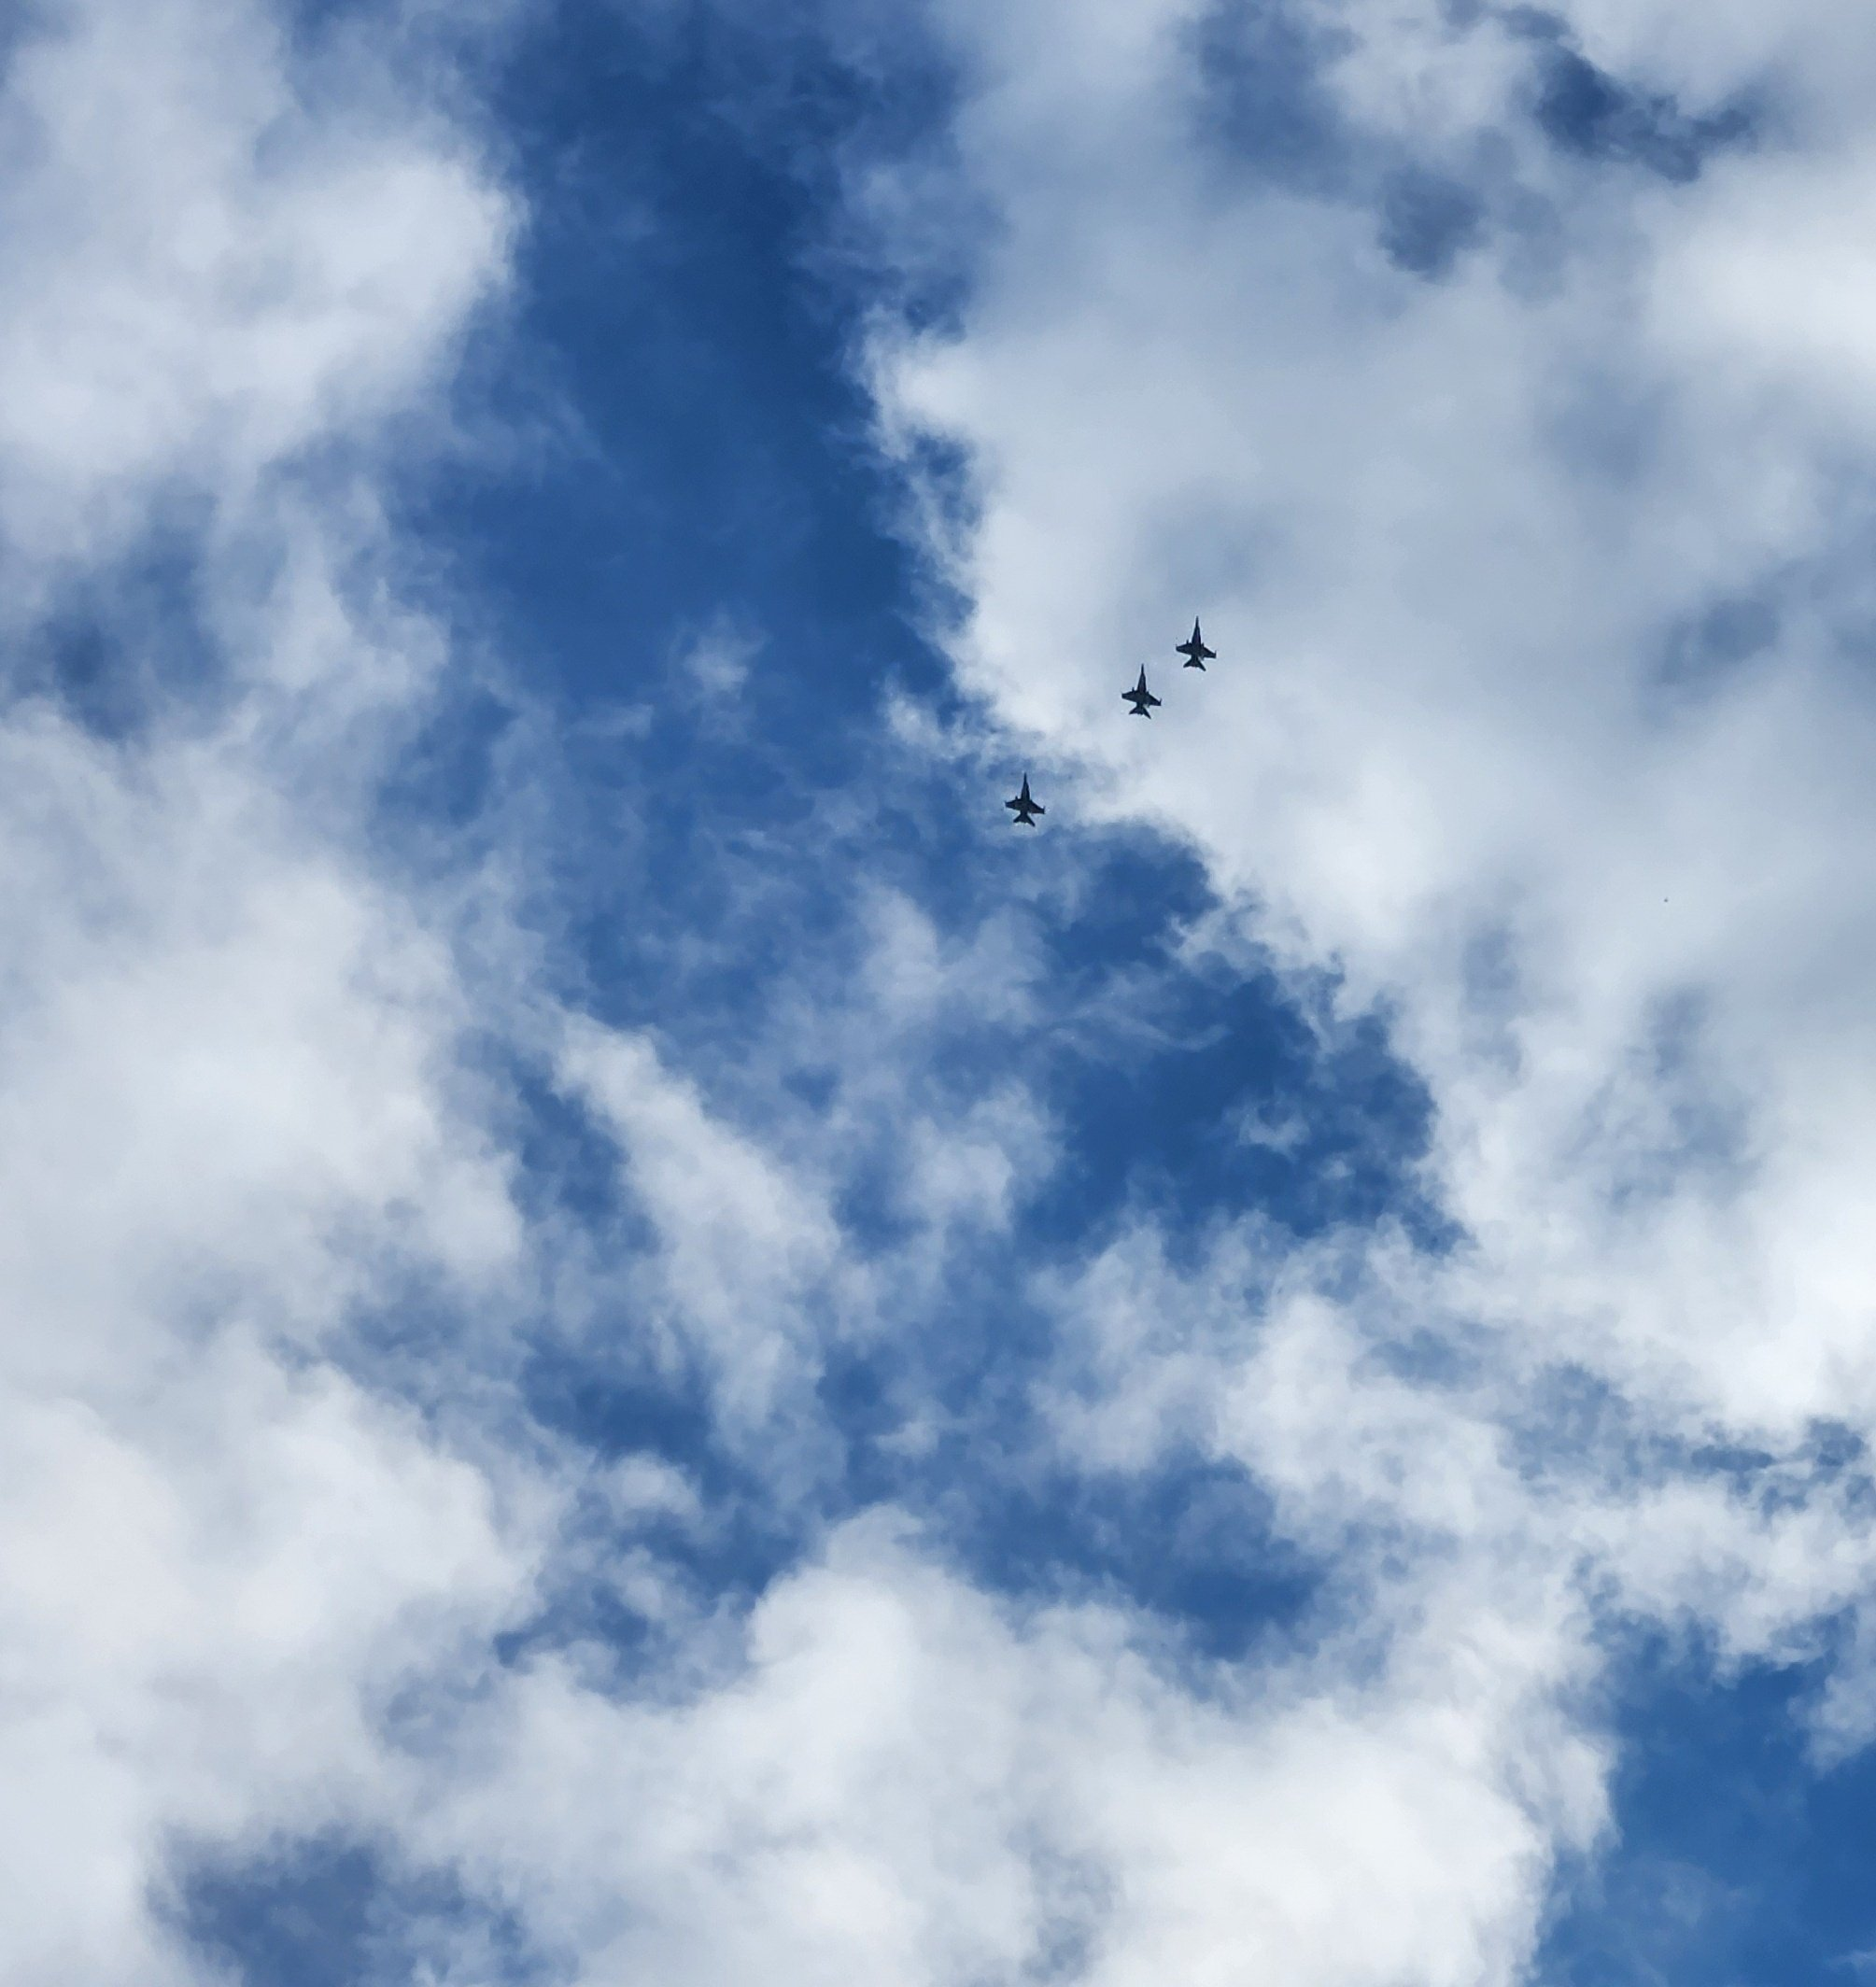airplane: (1174, 614, 1218, 672), (1003, 770, 1046, 829), (1121, 663, 1162, 719)
